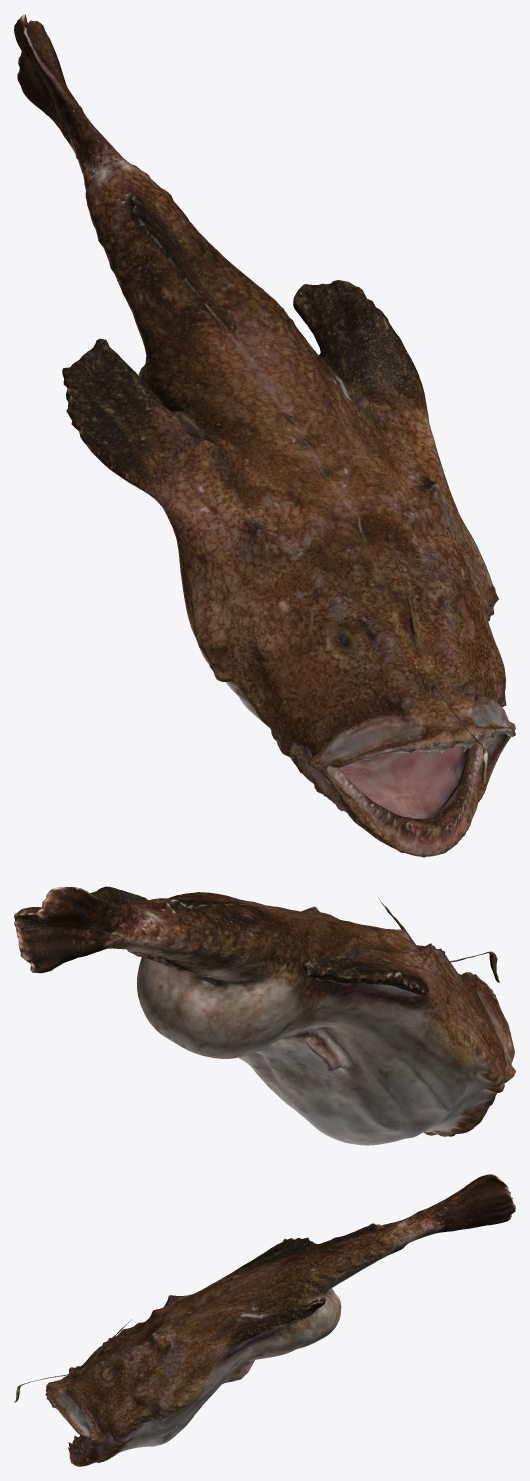
File: anko.glb
3 views of the same model, one above another, from view 1: azimuth 30°, elevation 25°; view 2: azimuth 150°, elevation 25°; view 3: azimuth 270°, elevation 25° (orthographic). The views are drawn at different scales.
Parts seen in each view (by area): view 1: Object_6.001; view 2: Object_6.001; view 3: Object_6.001.
Part boxes in pixels (<box>): Object_6.001: <box>14,14,515,857</box>; Object_6.001: <box>14,886,515,1145</box>; Object_6.001: <box>14,1174,515,1466</box>.
Bounding box in the file's own units: 1.56 × 2.51 × 4.
1 material, 1 textured.
